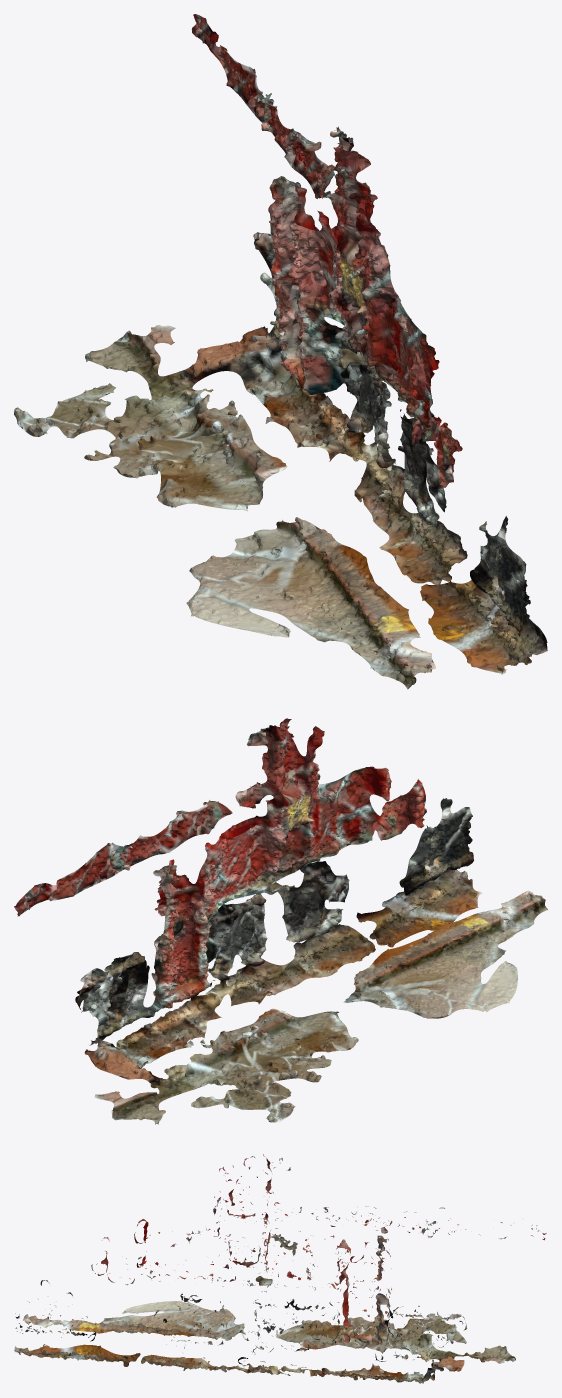
File: S052_CraneWheels.glb
3 views of the same model, one above another, from view 1: azimuth 30°, elevation 25°; view 2: azimuth 150°, elevation 25°; view 3: azimuth 270°, elevation 25° (orthographic). The views are drawn at different scales.
Size of the model in its own units: 2.89 by 3.09 by 7.07.
Materials: 1 (1 with a texture image).
